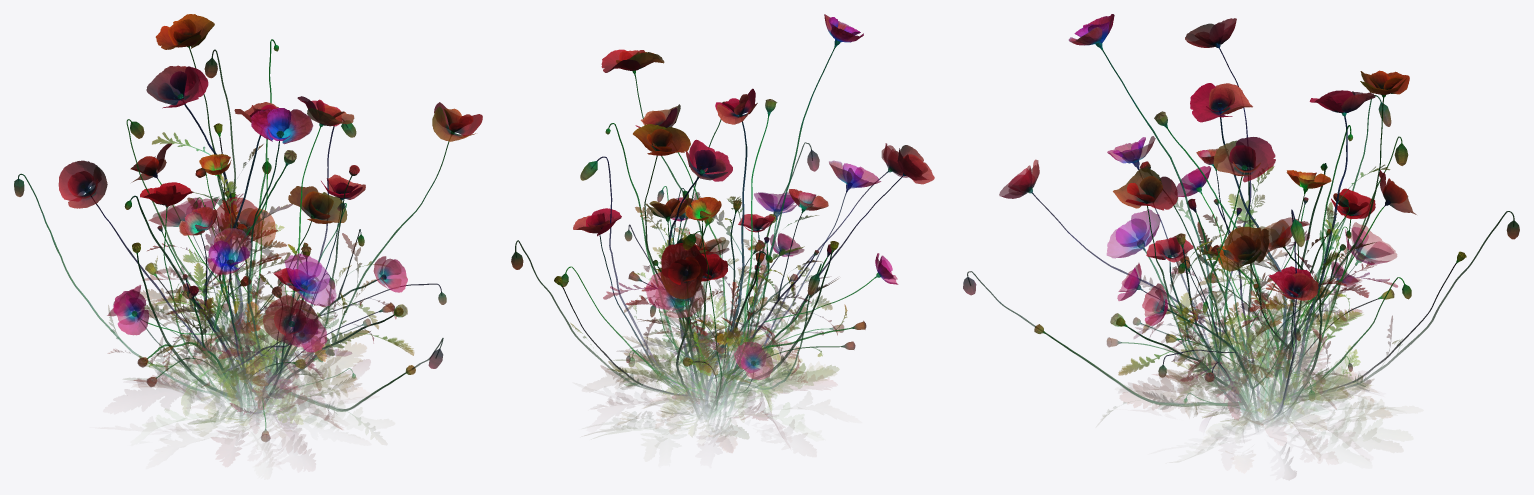
Rendered from vmcobd0ja_tier_0.gltf.
The picture shows the model from 3 angles, left to right: view 1: azimuth 30°, elevation 25°; view 2: azimuth 150°, elevation 25°; view 3: azimuth 270°, elevation 25°; orthographic projection. The views are drawn at different scales.
Visible parts, largest first — view 1: SM_vmcobd0ja_VarC, SM_vmcobd0ja_VarF, SM_vmcobd0ja_VarE, SM_vmcobd0ja_VarD, SM_vmcobd0ja_VarB, SM_vmcobd0ja_VarG, SM_vmcobd0ja_VarA, SM_vmcobd0ja_VarH; view 2: SM_vmcobd0ja_VarC, SM_vmcobd0ja_VarF, SM_vmcobd0ja_VarB, SM_vmcobd0ja_VarE, SM_vmcobd0ja_VarD, SM_vmcobd0ja_VarG, SM_vmcobd0ja_VarA, SM_vmcobd0ja_VarH; view 3: SM_vmcobd0ja_VarC, SM_vmcobd0ja_VarF, SM_vmcobd0ja_VarD, SM_vmcobd0ja_VarE, SM_vmcobd0ja_VarB, SM_vmcobd0ja_VarG, SM_vmcobd0ja_VarH, SM_vmcobd0ja_VarA.
Boxes of the visible parts, x1,y1,x2,y2 form: SM_vmcobd0ja_VarC: [14, 14, 482, 436]; SM_vmcobd0ja_VarF: [107, 154, 446, 425]; SM_vmcobd0ja_VarE: [119, 39, 370, 416]; SM_vmcobd0ja_VarD: [125, 123, 415, 434]; SM_vmcobd0ja_VarB: [124, 143, 347, 424]; SM_vmcobd0ja_VarG: [137, 244, 394, 441]; SM_vmcobd0ja_VarA: [142, 65, 276, 373]; SM_vmcobd0ja_VarH: [149, 102, 292, 415]; SM_vmcobd0ja_VarC: [511, 49, 934, 427]; SM_vmcobd0ja_VarF: [608, 188, 898, 433]; SM_vmcobd0ja_VarB: [561, 198, 838, 419]; SM_vmcobd0ja_VarE: [605, 14, 880, 398]; SM_vmcobd0ja_VarD: [554, 208, 838, 438]; SM_vmcobd0ja_VarG: [628, 200, 866, 421]; SM_vmcobd0ja_VarA: [603, 139, 766, 405]; SM_vmcobd0ja_VarH: [666, 88, 804, 433]; SM_vmcobd0ja_VarC: [963, 18, 1519, 424]; SM_vmcobd0ja_VarF: [1117, 148, 1384, 427]; SM_vmcobd0ja_VarD: [1034, 176, 1466, 419]; SM_vmcobd0ja_VarE: [1068, 14, 1396, 401]; SM_vmcobd0ja_VarB: [1167, 163, 1416, 425]; SM_vmcobd0ja_VarG: [1107, 233, 1394, 421]; SM_vmcobd0ja_VarH: [1190, 83, 1373, 430]; SM_vmcobd0ja_VarA: [1233, 90, 1397, 401].
Bounding box in the file's own units: 0.7747 × 0.7566 × 0.9727.
1 material, 1 textured.
